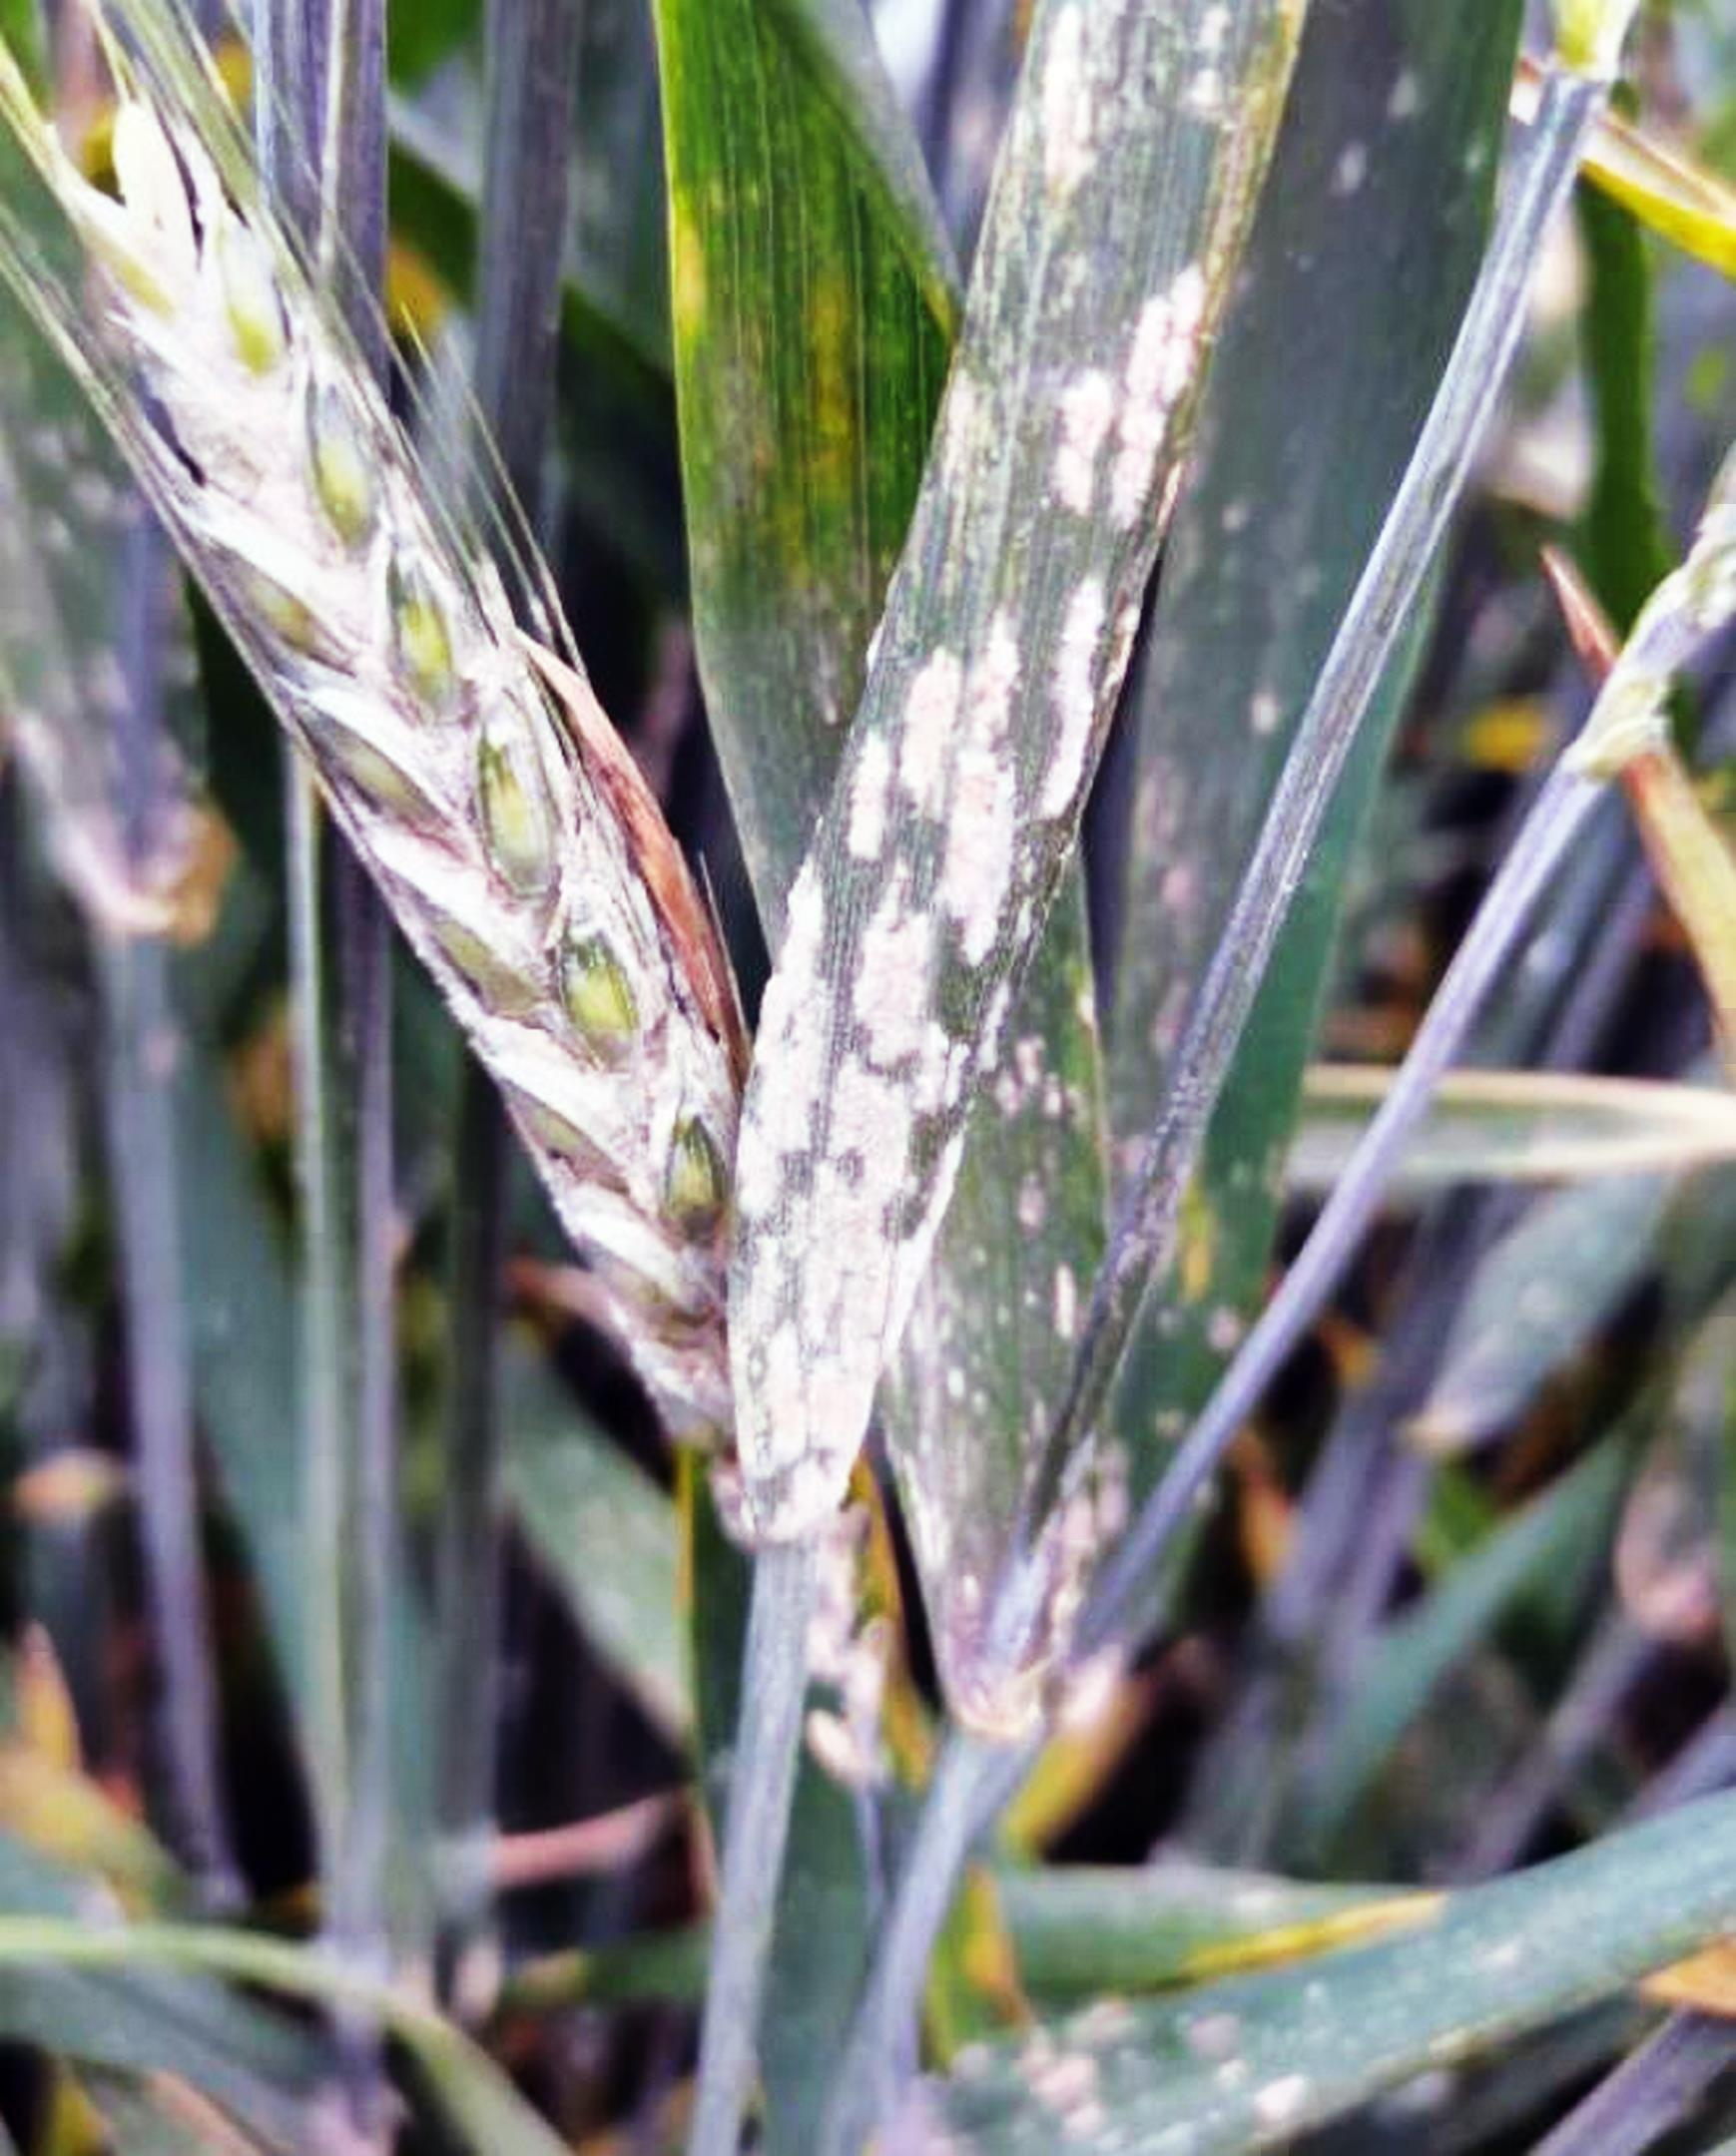Powdery Mildew: (716, 266, 1229, 1389)
